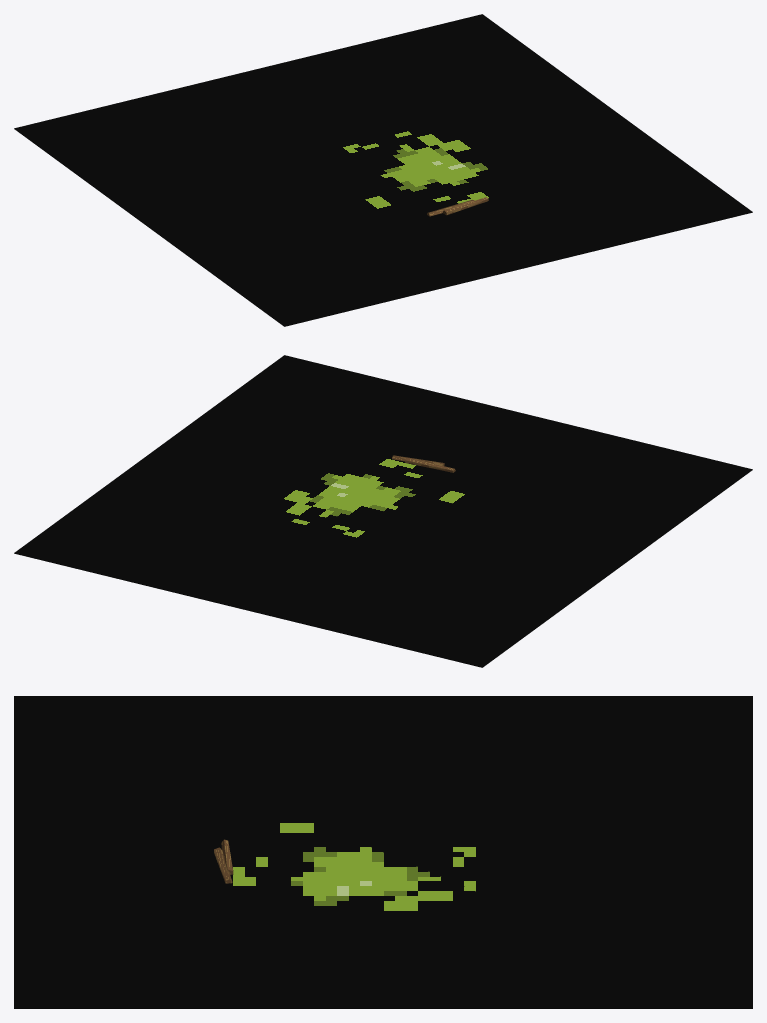
Rendered from fd_gibs_veggy.glb.
3 views of the same model, one above another, from view 1: azimuth 30°, elevation 25°; view 2: azimuth 150°, elevation 25°; view 3: azimuth 270°, elevation 25° (orthographic). The views are drawn at different scales.
Visible parts, largest first — view 1: block_sap; view 2: block_sap; view 3: block_sap.
Part boxes in pixels (<box>): block_sap: <box>14,14,752,326</box>; block_sap: <box>14,355,752,667</box>; block_sap: <box>14,696,752,1008</box>.
Bounding box in the file's own units: 1 × 0.0137 × 1.
Materials: 2 (2 with a texture image).
